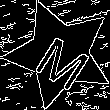M_NE: (26, 20, 93, 87)
